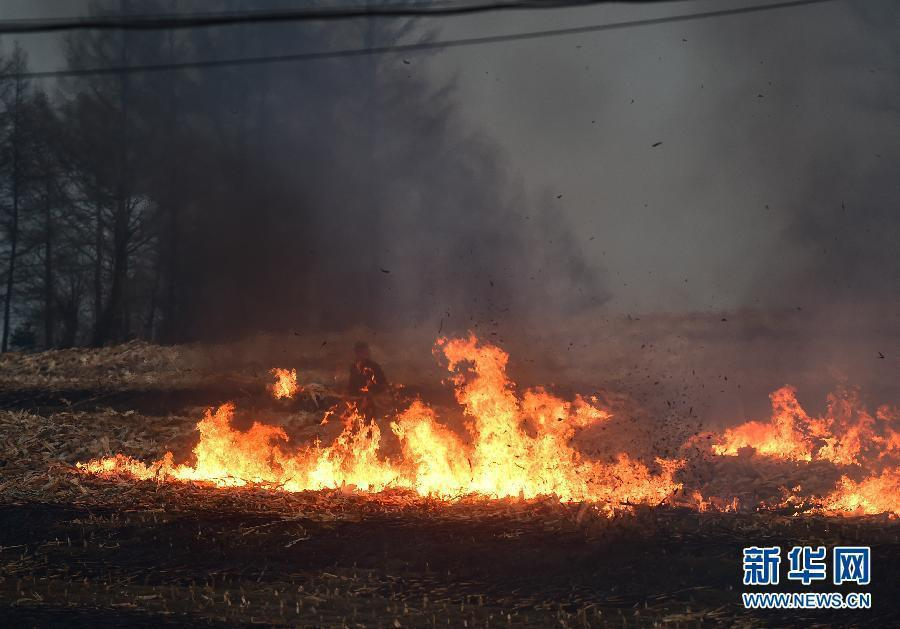fire: (74, 354, 897, 515)
